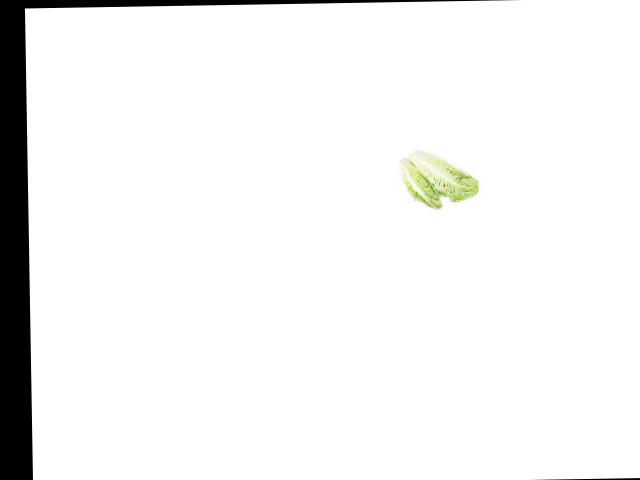lettuce: (415, 146, 479, 205)
